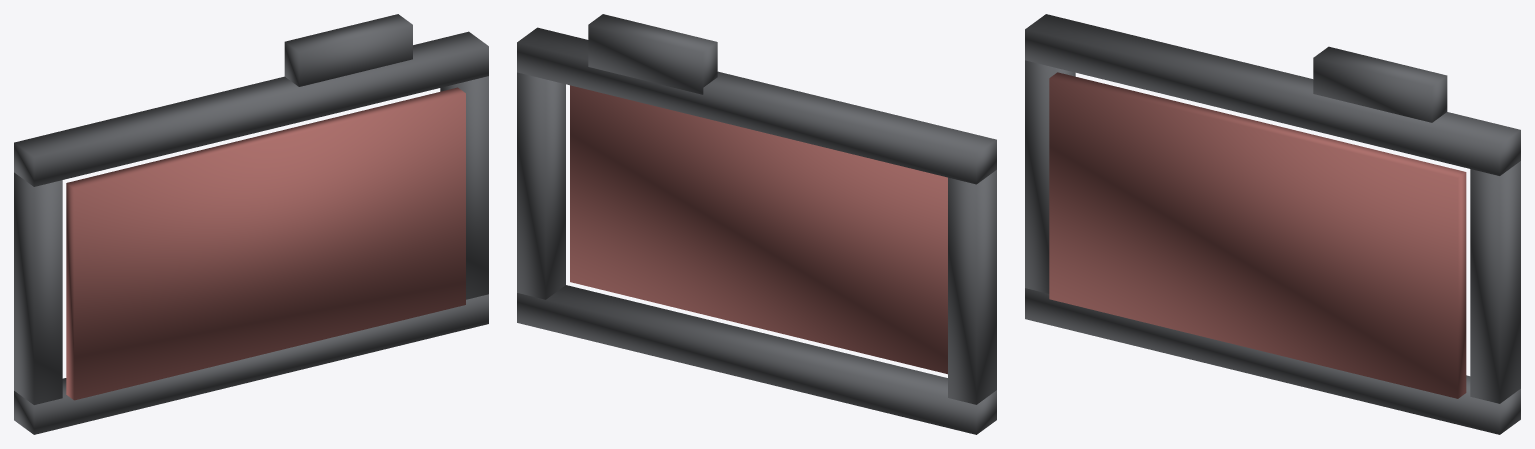
File: on_air_wall_sign__service.glb
The picture shows the model from 3 angles, left to right: view 1: azimuth 30°, elevation 25°; view 2: azimuth 150°, elevation 25°; view 3: azimuth 330°, elevation 25°; orthographic projection. The views are drawn at different scales.
Parts seen in each view (by area): view 1: world; view 2: world; view 3: world.
Boxes of the visible parts, x1=… form: world: x1=14, y1=14, x2=488, y2=434; world: x1=517, y1=14, x2=996, y2=434; world: x1=1025, y1=14, x2=1520, y2=434.
Bounding box in the file's own units: 0.72 × 0.4725 × 0.0789.
